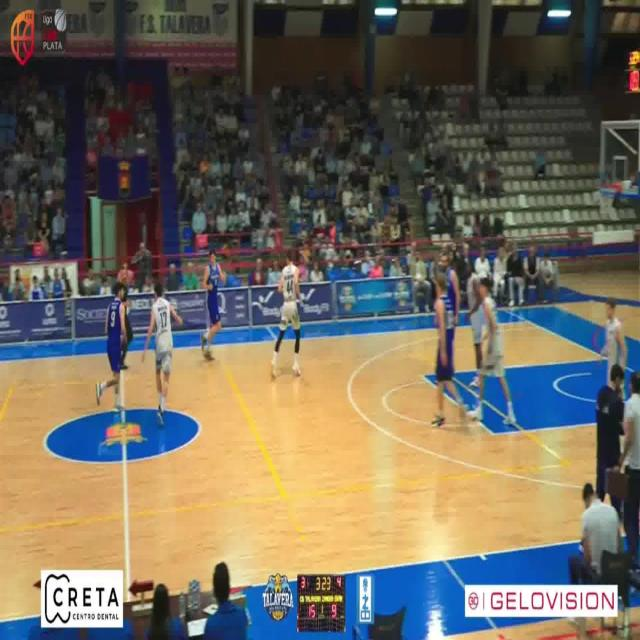basket: (594, 178, 624, 218)
bench person: (598, 364, 625, 500), (622, 371, 640, 570)
player: (469, 277, 517, 425), (141, 280, 182, 425), (432, 272, 467, 426), (95, 281, 126, 408), (271, 249, 301, 378), (201, 248, 226, 360), (467, 271, 486, 387), (603, 295, 627, 384), (442, 252, 461, 325)
referee: (115, 262, 136, 295)
